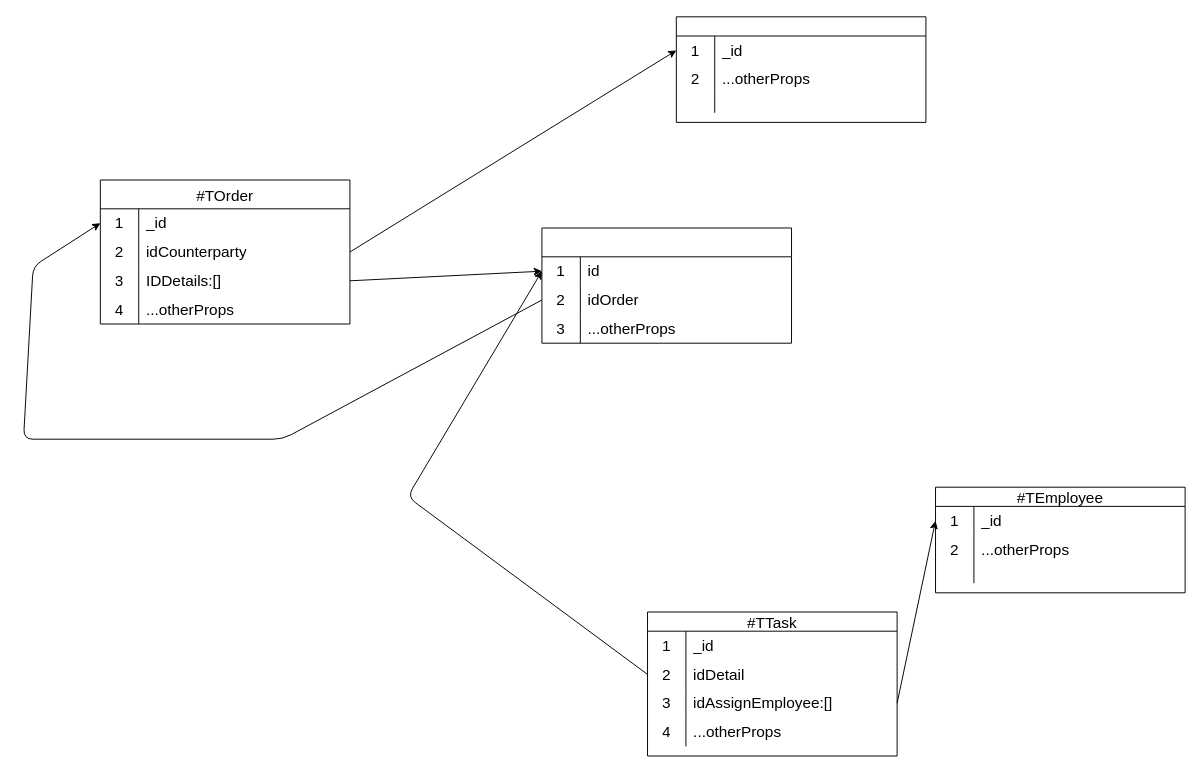
This 1202x773 diagram has some shape labels left out. The box of each missing label's shape, as (x1, y1, x2, y2) in pixels:
#TCounterparty: (675, 16, 926, 122)
#TDetail: (541, 227, 792, 343)
